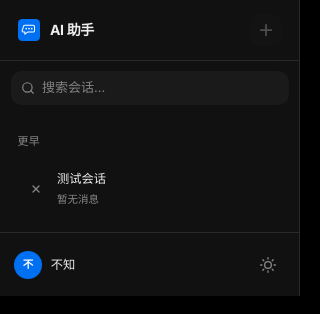
Test: conversationList (additional) › 清除搜索按钮
In the field with placeholder "搜索会话...": [150, 88] box [10, 71, 288, 104], type "测试"
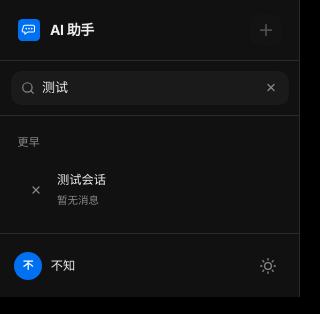
Click the button named "清除搜索": [271, 88] box [260, 77, 282, 98]
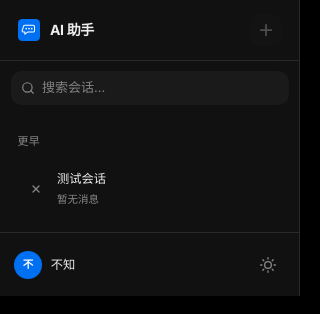
Result: the field with placeholder "搜索会话..." is empty at [10, 71, 288, 104]
